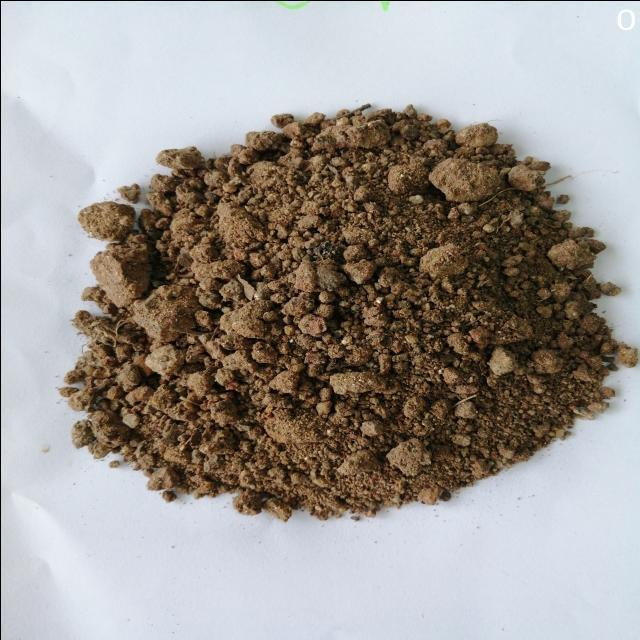soil: (165, 171, 510, 445)
